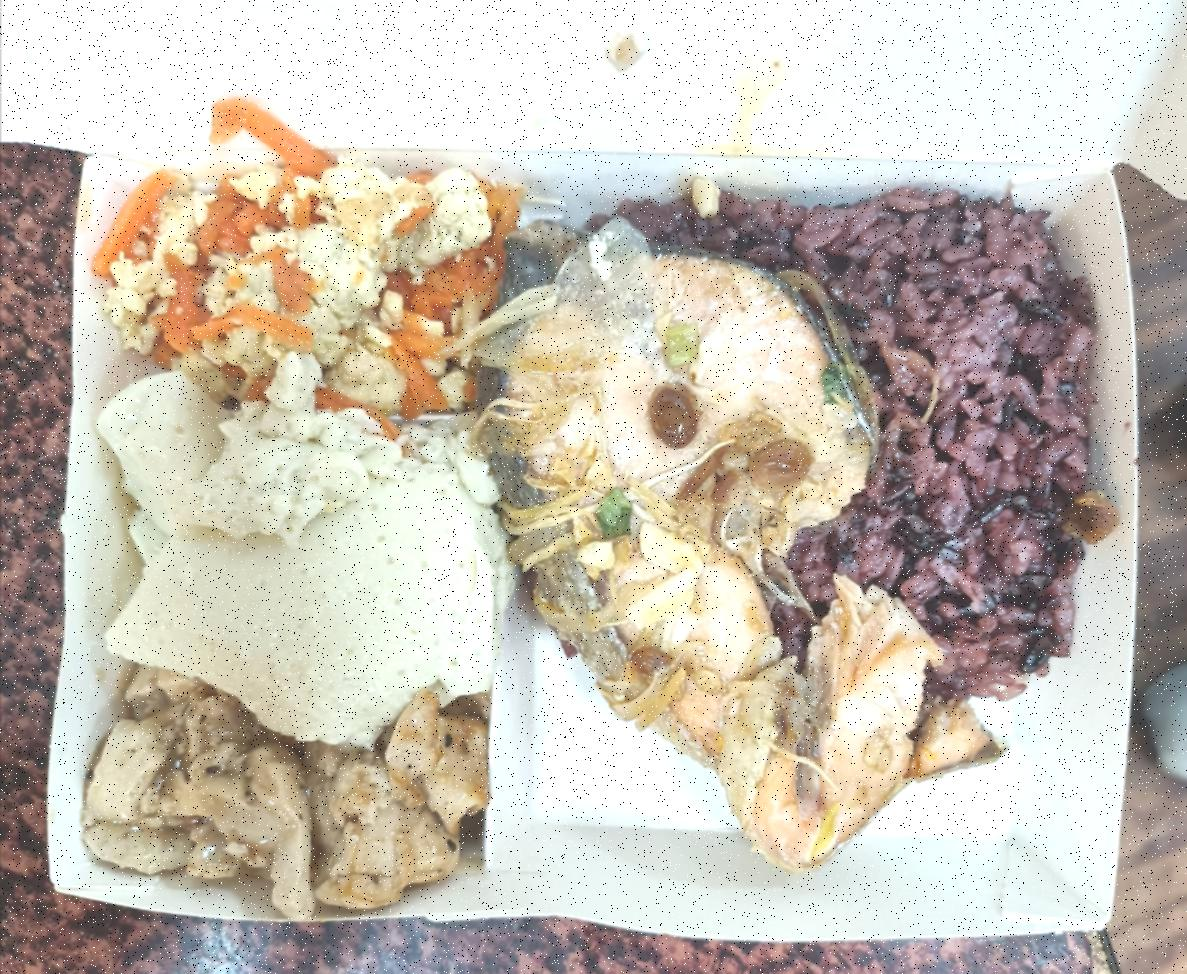box: (25, 146, 1166, 944)
purple rice: (544, 198, 1074, 727)
salmon: (495, 237, 874, 848)
side dish: (84, 428, 489, 717), (106, 173, 498, 411), (69, 680, 481, 903)
